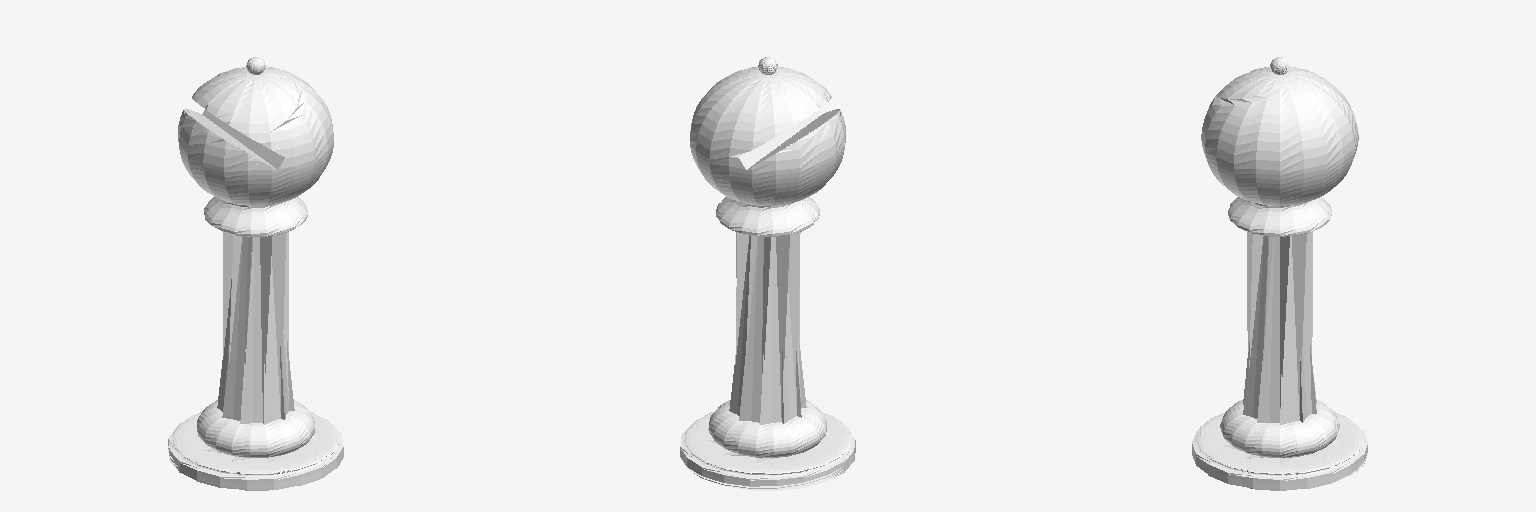
The model's file is whiteBishop.obj.
3 views of the same model, side by side, from view 1: azimuth 30°, elevation 25°; view 2: azimuth 150°, elevation 25°; view 3: azimuth 270°, elevation 25° (orthographic).
Parts seen in each view (by area): view 1: Curve_017; view 2: Curve_017; view 3: Curve_017.
Part boxes in pixels (x1,y1,x2,y2): Curve_017: (168, 57, 343, 490); Curve_017: (680, 57, 855, 490); Curve_017: (1192, 57, 1367, 490).
Bounding box in the file's own units: 0.0117 × 0.029 × 0.0117.